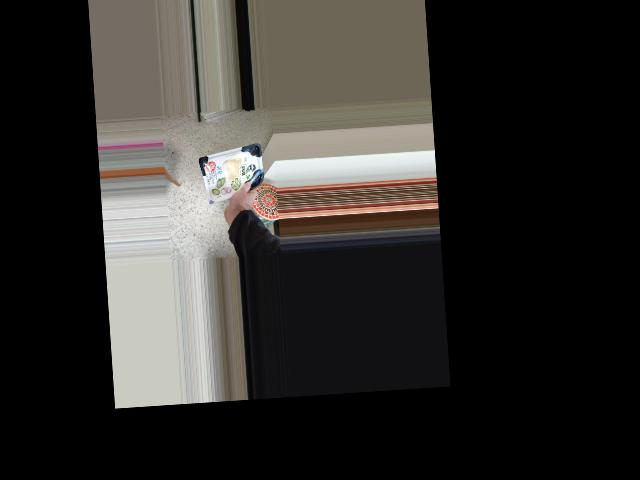cheese: (205, 160, 255, 212)
